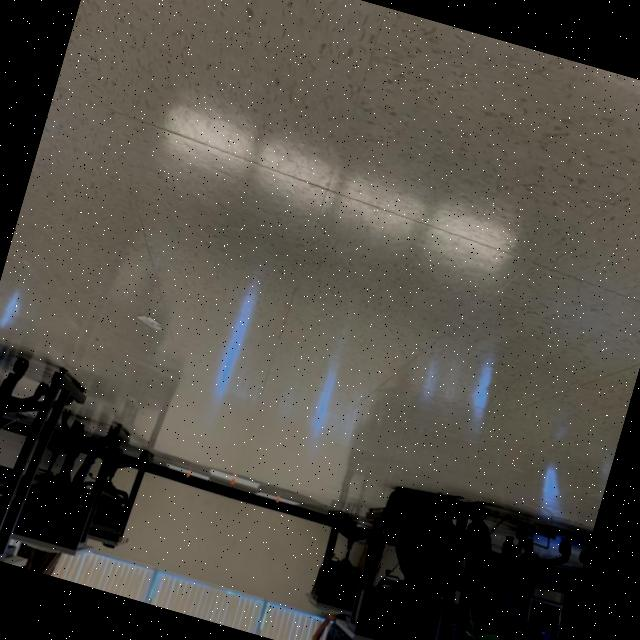ping-pong-ball: (228, 477, 235, 485), (184, 470, 189, 478), (274, 496, 278, 503)
